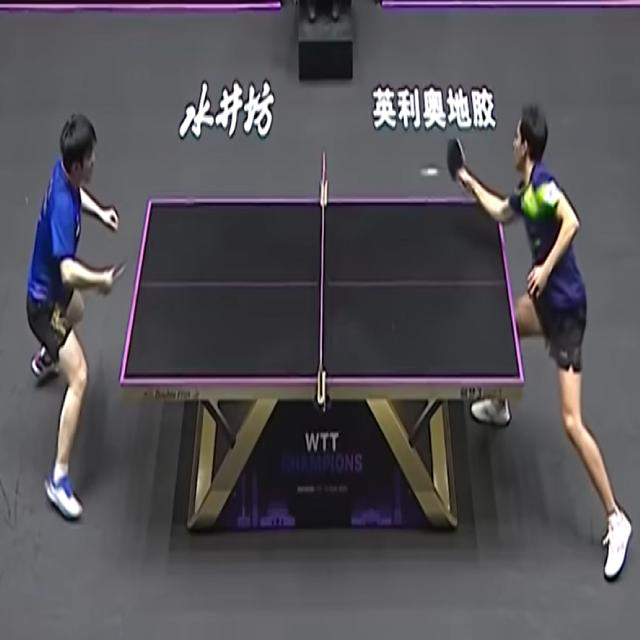TT Net: (315, 149, 328, 415)
TT Racket: (439, 129, 469, 187), (98, 259, 128, 301)
TT Table: (120, 195, 524, 383)
